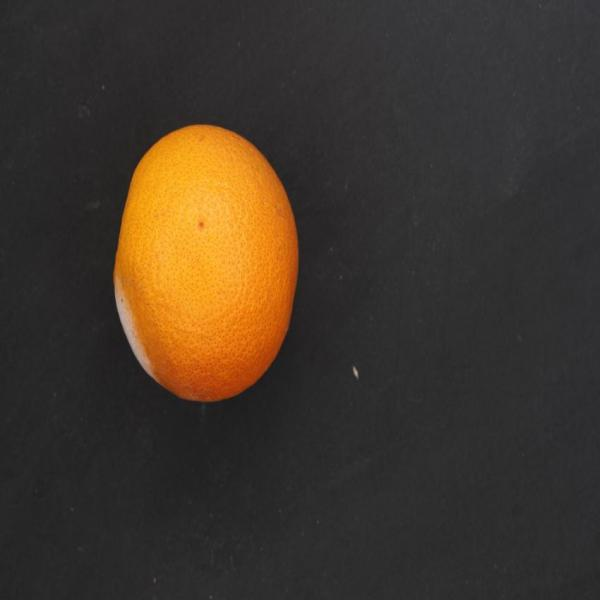Moho verde: (90, 119, 307, 417)
